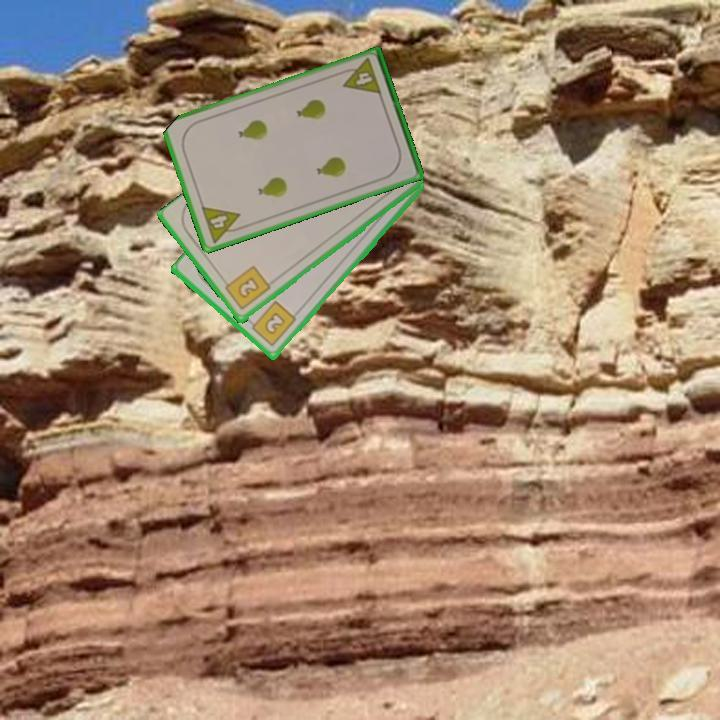2b: (244, 298, 299, 350), (220, 263, 273, 313)
4p: (198, 203, 247, 246), (336, 55, 384, 98)
